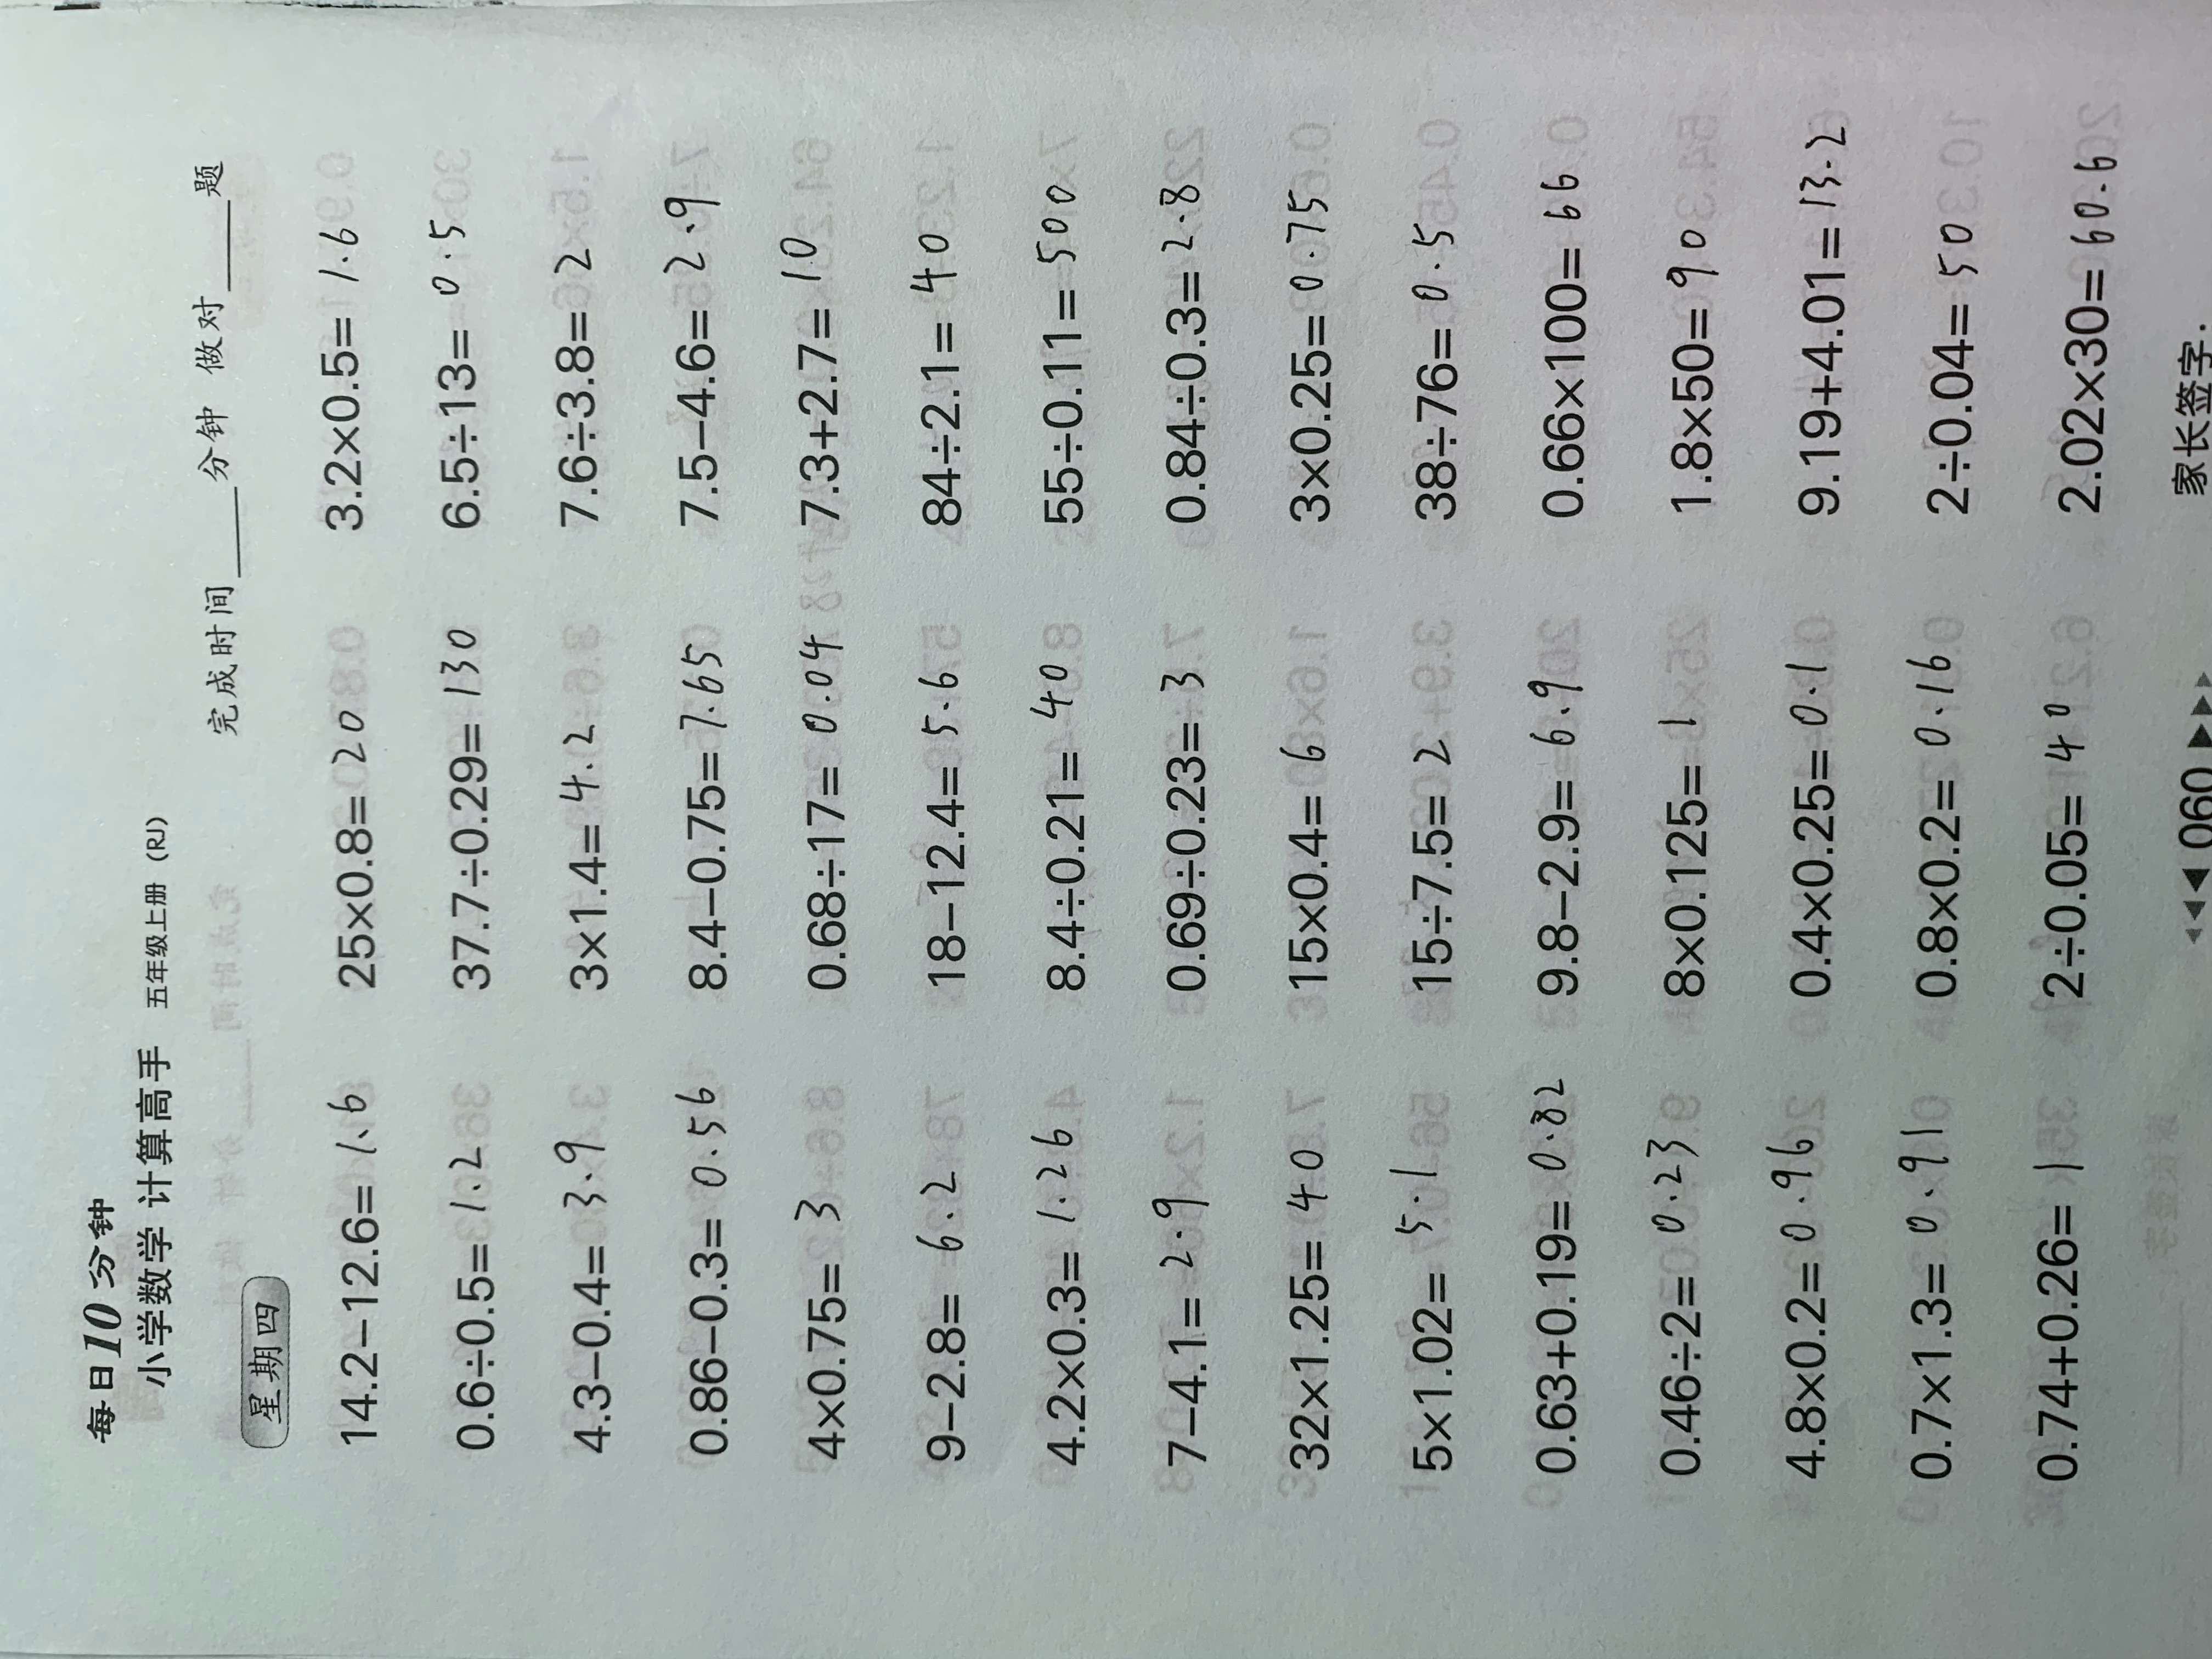equation: (254, 502, 773, 558), (232, 1035, 667, 1101), (874, 767, 1341, 828), (228, 1140, 786, 1190), (1496, 488, 1961, 547), (1508, 1340, 2054, 1391), (221, 1417, 719, 1471), (871, 1138, 1320, 1197), (244, 948, 693, 1007), (228, 1227, 704, 1281), (878, 502, 1367, 554), (1512, 1539, 2017, 1589), (221, 1516, 678, 1572), (874, 591, 1376, 641), (225, 1323, 707, 1375), (874, 326, 1386, 375), (862, 1425, 1353, 1476), (1508, 1148, 1998, 1199), (871, 1333, 1341, 1385), (1496, 863, 1980, 913), (258, 411, 704, 465), (284, 237, 759, 288), (244, 772, 719, 821), (244, 856, 631, 915), (874, 863, 1327, 913), (1500, 957, 1968, 1006), (1496, 772, 1980, 819), (1519, 1243, 1925, 1297), (1496, 582, 1914, 634), (881, 683, 1327, 732), (247, 680, 660, 732), (866, 1236, 1264, 1290), (1508, 1051, 1928, 1101), (261, 329, 693, 378), (1489, 317, 1928, 364), (1493, 676, 1914, 725), (1489, 230, 1921, 277), (1512, 1438, 1928, 1486), (866, 1525, 1287, 1572), (251, 589, 624, 641), (1496, 408, 1895, 457), (878, 951, 1231, 1004), (878, 242, 1278, 288), (878, 413, 1254, 460), (878, 1051, 1238, 1100)
